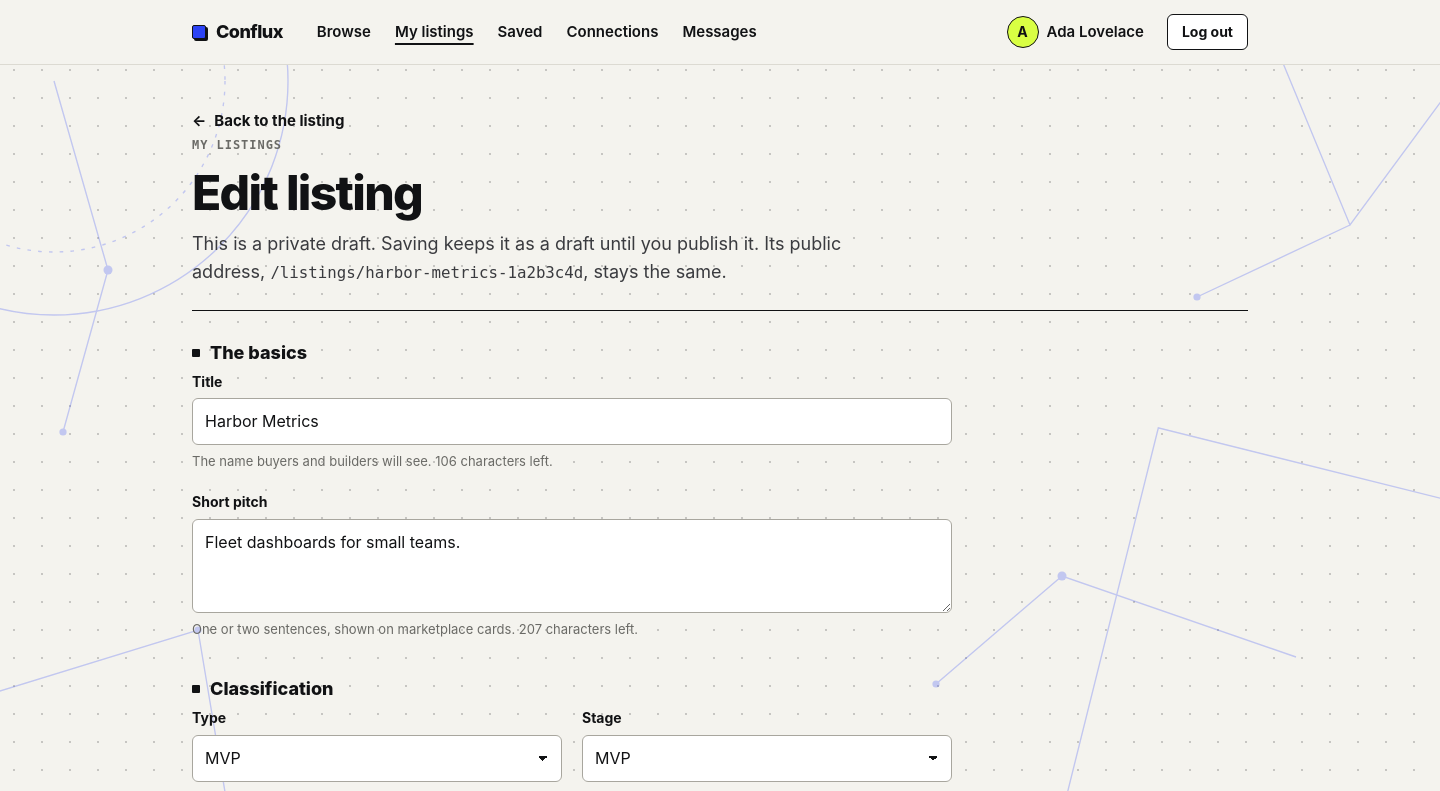
Edit listing › explains a 403 on save and keeps the edits
Replace the text in the field labelled "Title" with "Edited title" at [572, 422], box [192,398,952,445]
(page scrolled)
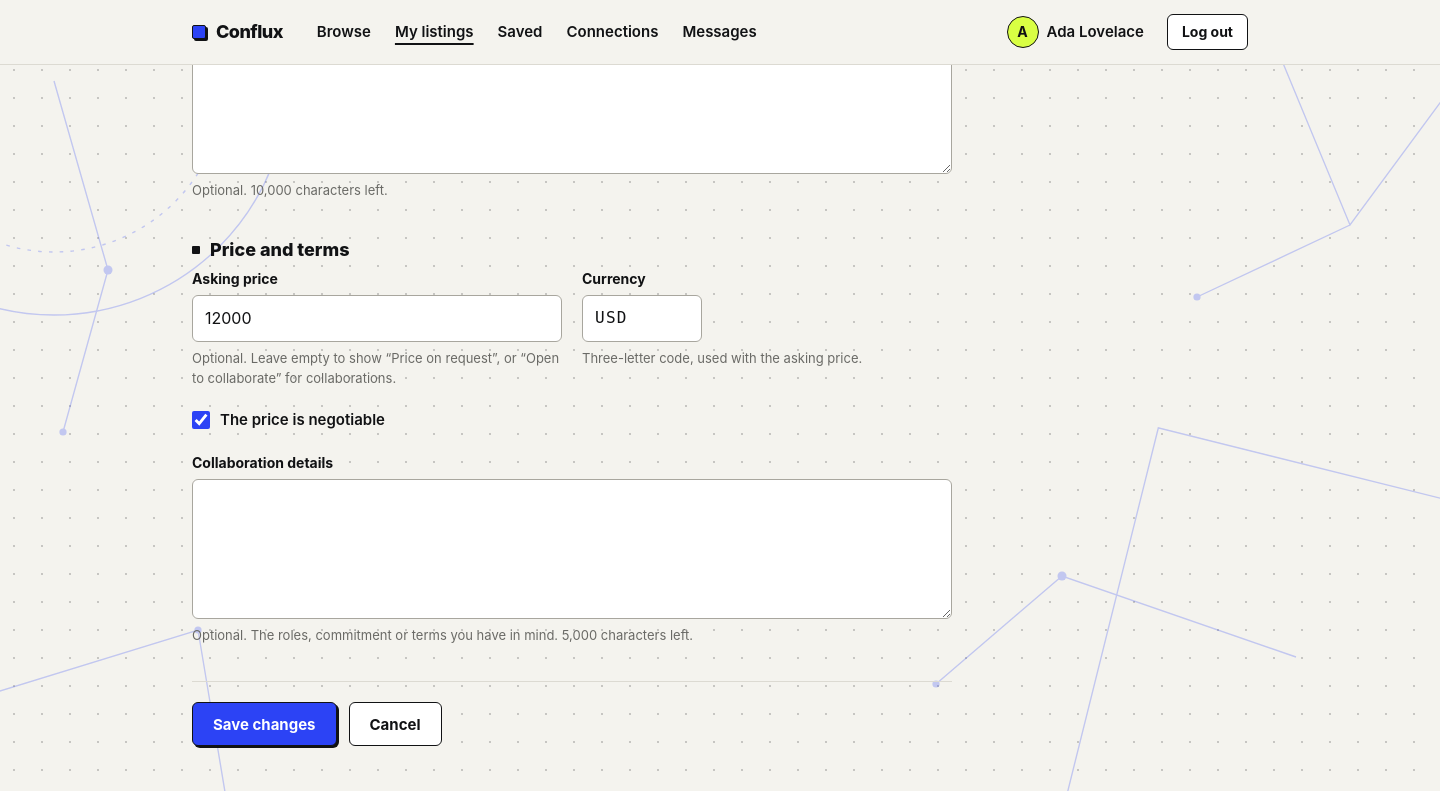
Click the button "Save changes" at [264, 724], box [192,702,336,746]
(page scrolled)
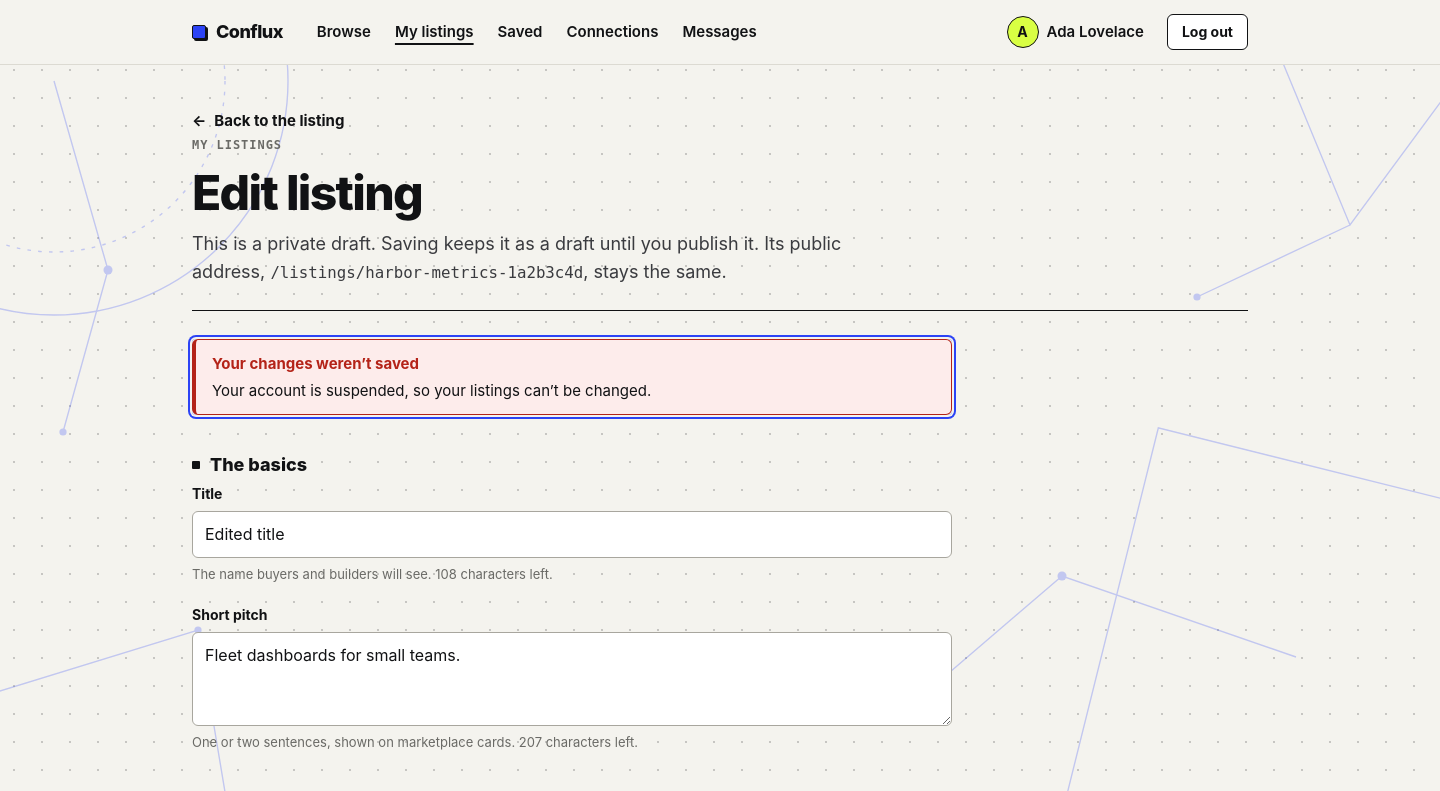
Expected: the message shows "Your changes weren’t saved", [212,354,419,373]
Expected: the message shows "Your account is suspended, so your listings can’t be changed.", [212,381,651,400]
